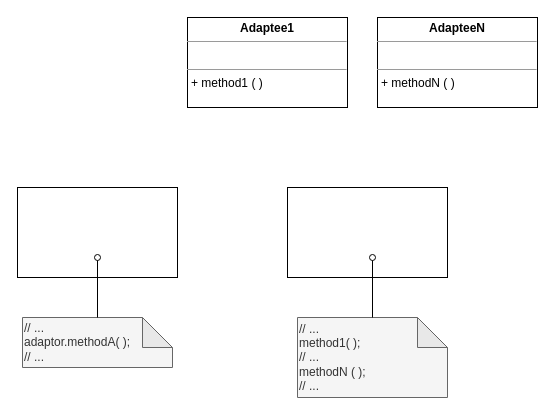
This 555x415 diagram has some shape labels left out. Here are the shapes that lost their labels. From the top down, the centre of each, then its label:
pixel 97 232: Client + adaptor : Adaptor + doWork( )
pixel 367 232: Adaptor + + methodA ( )
